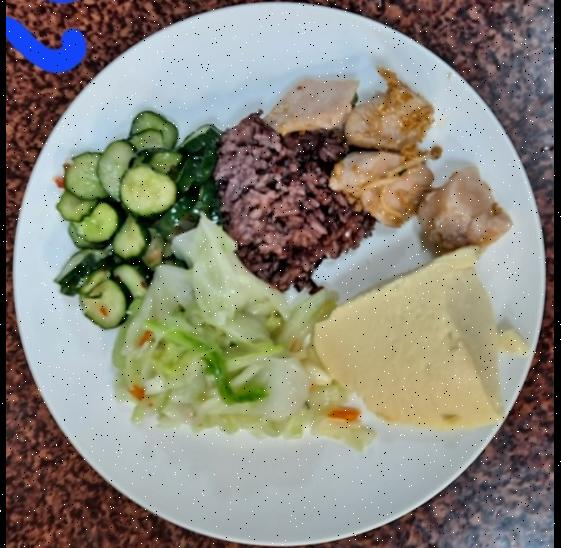plate: (15, 3, 548, 546)
purple rice: (208, 118, 374, 290)
scallion chicken: (261, 69, 510, 256)
side dish: (112, 215, 373, 450), (51, 107, 218, 328), (313, 252, 512, 432)
